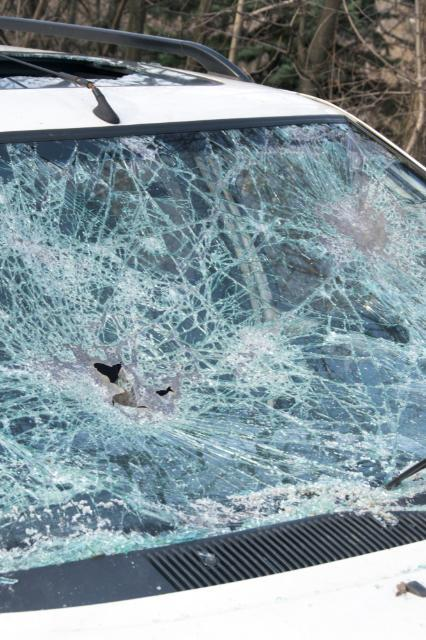glass shatter: (0, 122, 426, 575)
